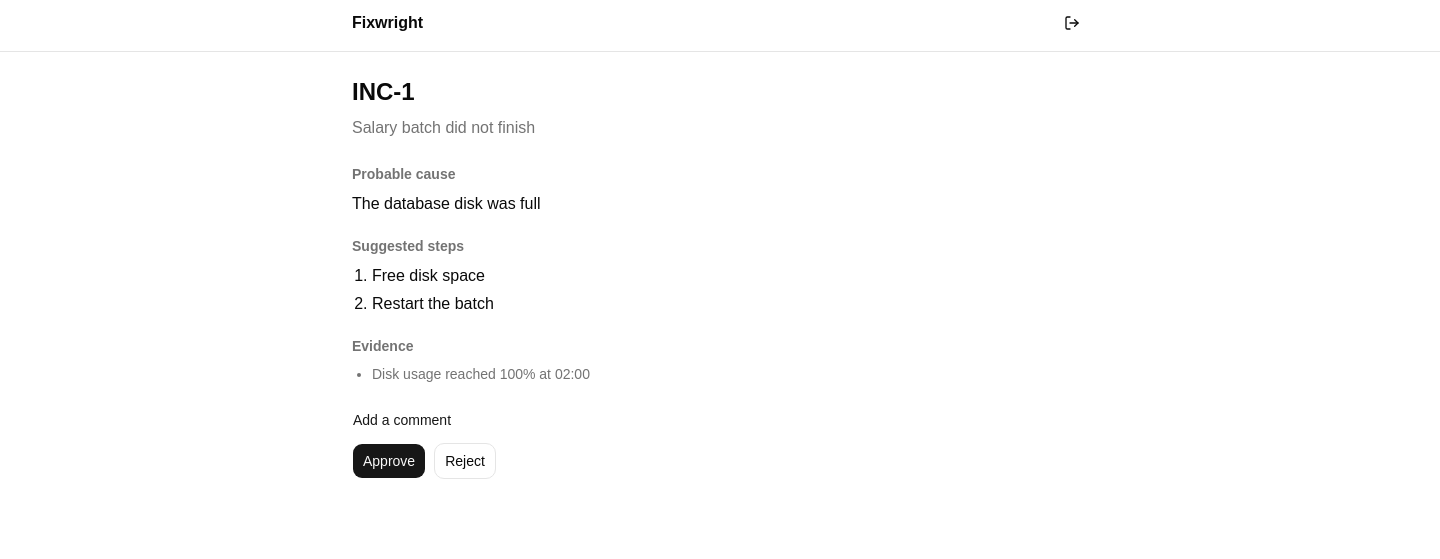
Test: comment is hidden until Add a comment and is sent with the decision
Check: the button "Approve" is shown, box [352,443,426,479]
Click the button "Add a comment" at (402,420), box [352,409,452,431]
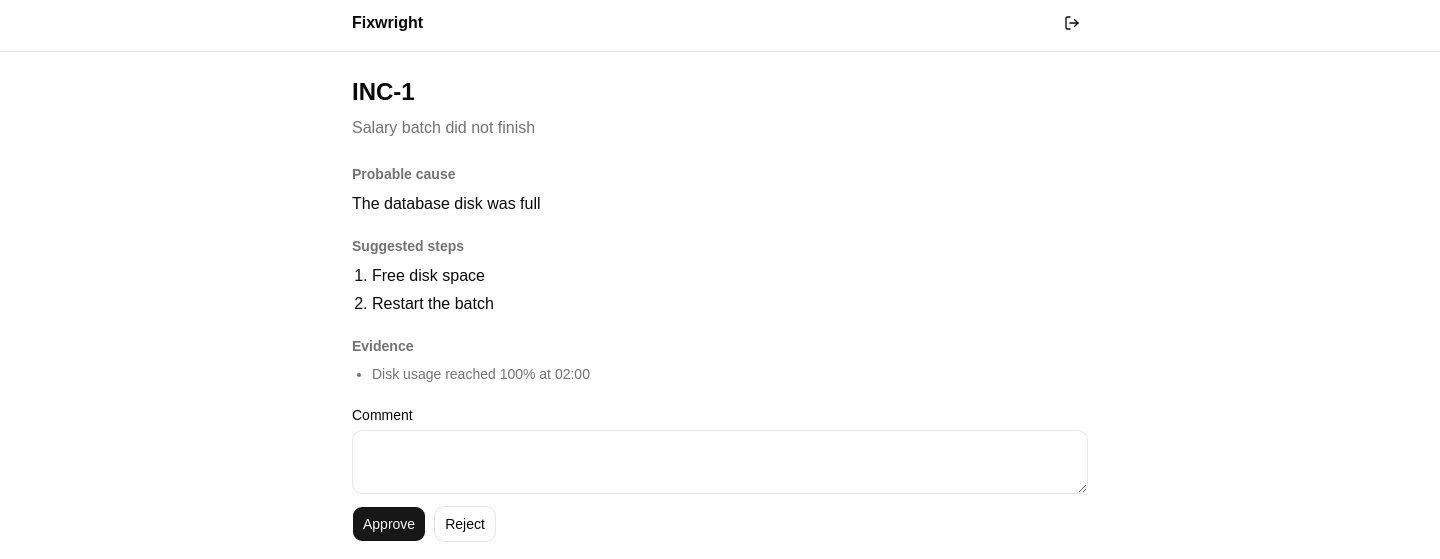
Type "Checked the disk" into the text box labelled "Comment" at (720,462), box [352,430,1088,494]
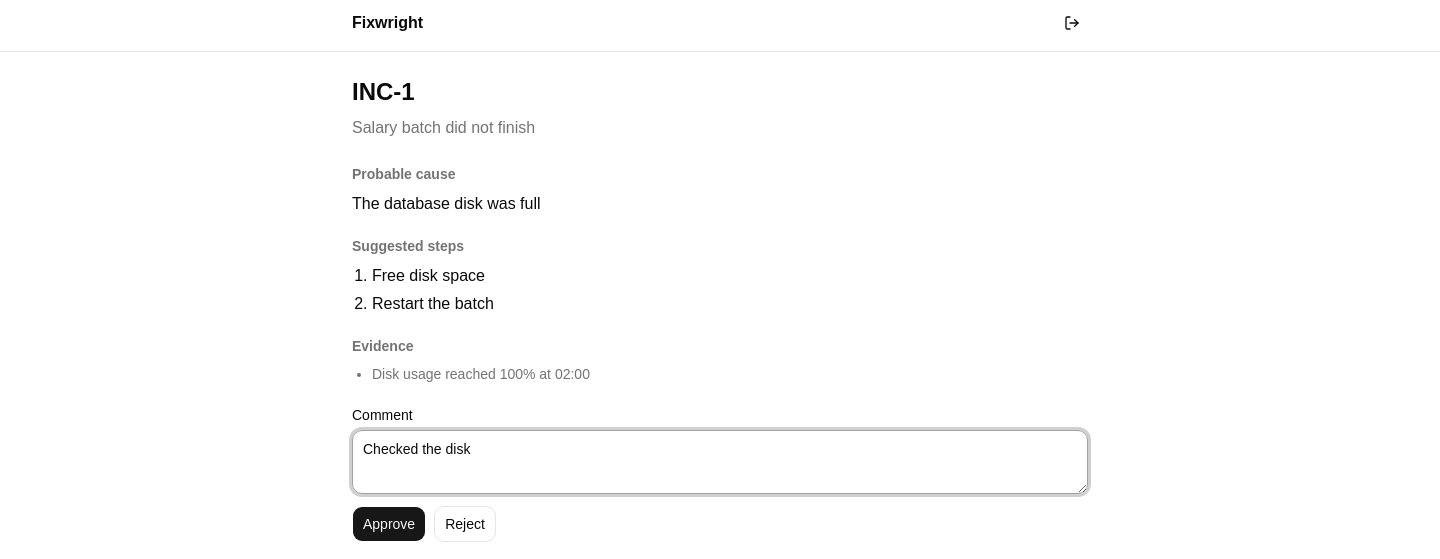
Click the button "Approve" at (389,524), box [352,506,426,542]
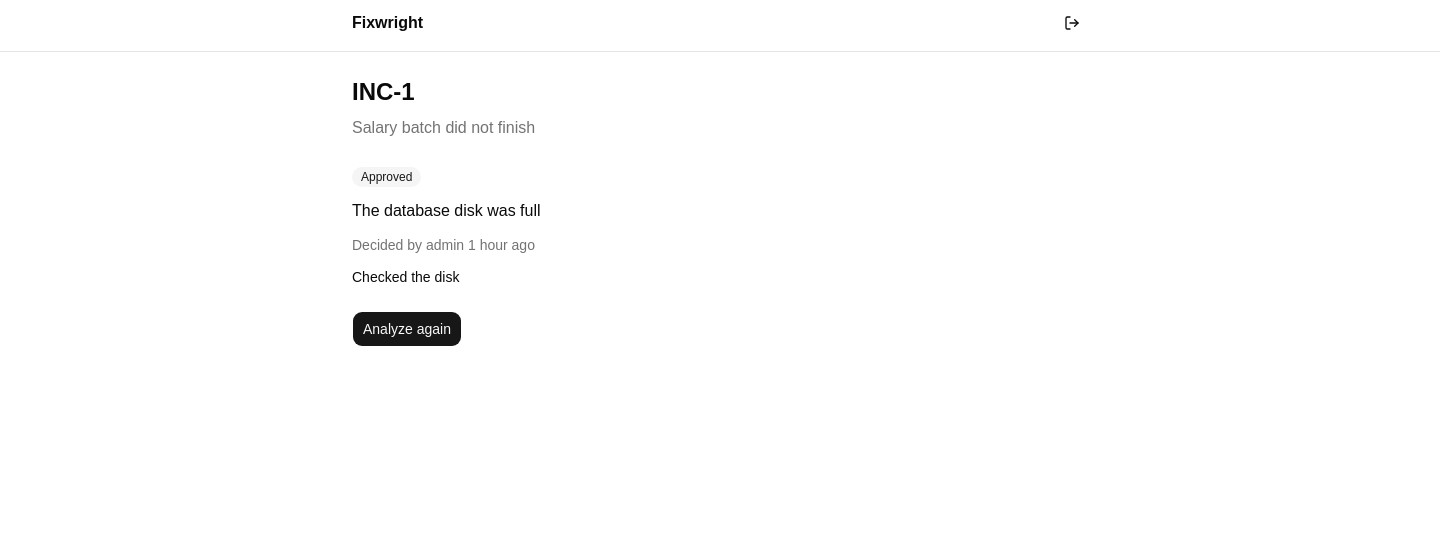
Check: the button "Analyze again" is shown, box [352,311,462,347]
